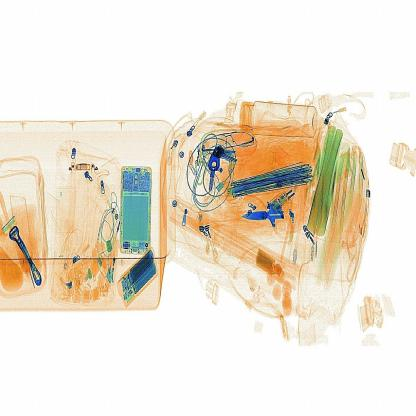gun: (240, 186, 299, 248)
